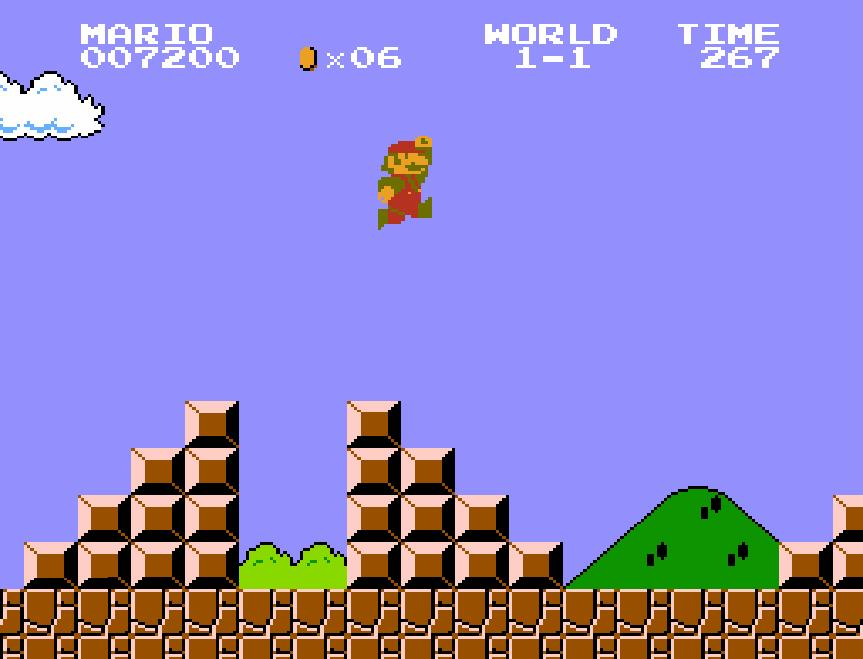big_mario: (376, 133, 434, 231)
